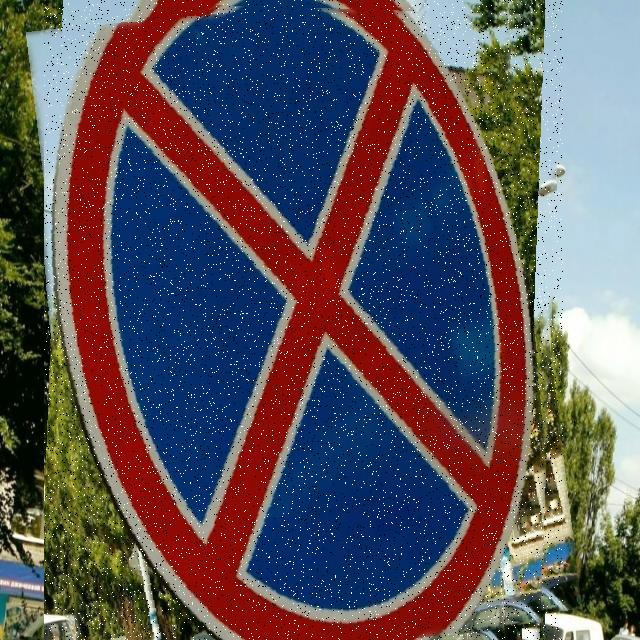no stopping: (44, 0, 563, 640)
